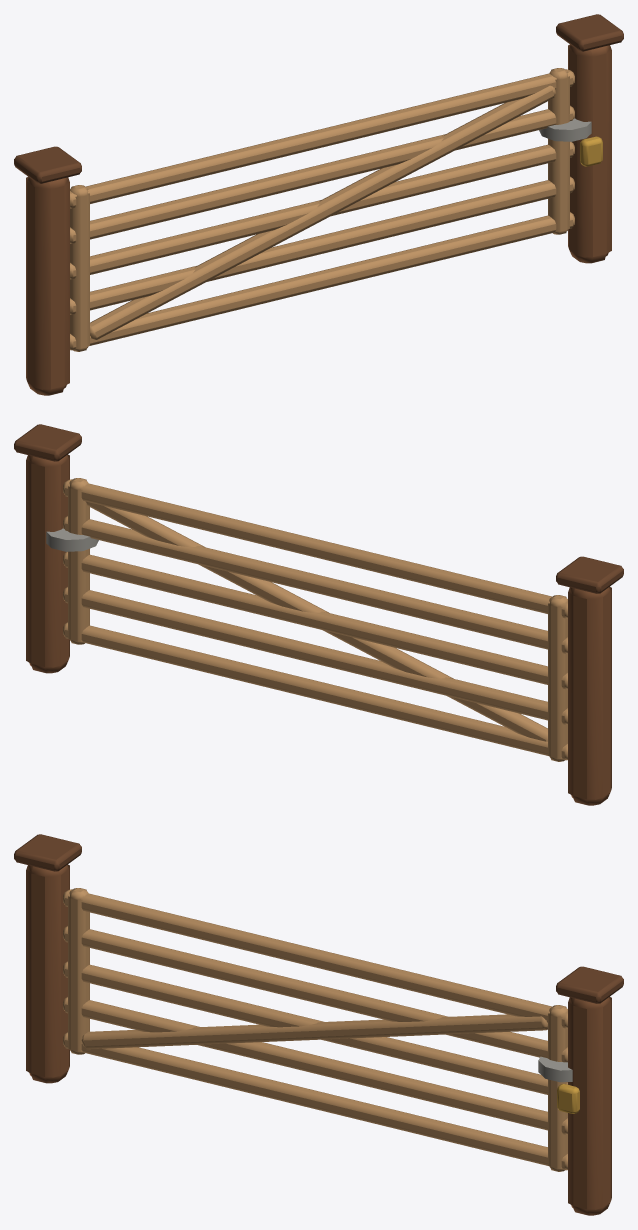
Rendered from field_gate.glb.
3 views of the same model, one above another, from view 1: azimuth 30°, elevation 25°; view 2: azimuth 150°, elevation 25°; view 3: azimuth 330°, elevation 25° (orthographic).
Parts seen in each view (by area): view 1: body; view 2: body; view 3: body.
Boxes of the visible parts, <box> form: body: <box>14,14,623,395</box>; body: <box>14,424,623,805</box>; body: <box>14,834,623,1215</box>.
Size of the model in its own units: 4.16 by 1.57 by 0.3417.
